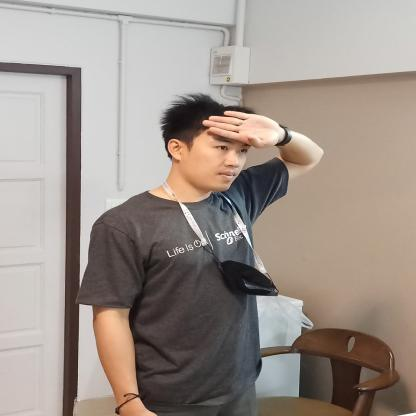Sick: (191, 102, 336, 200)
